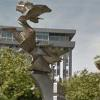Statue: (10, 1, 66, 80)
